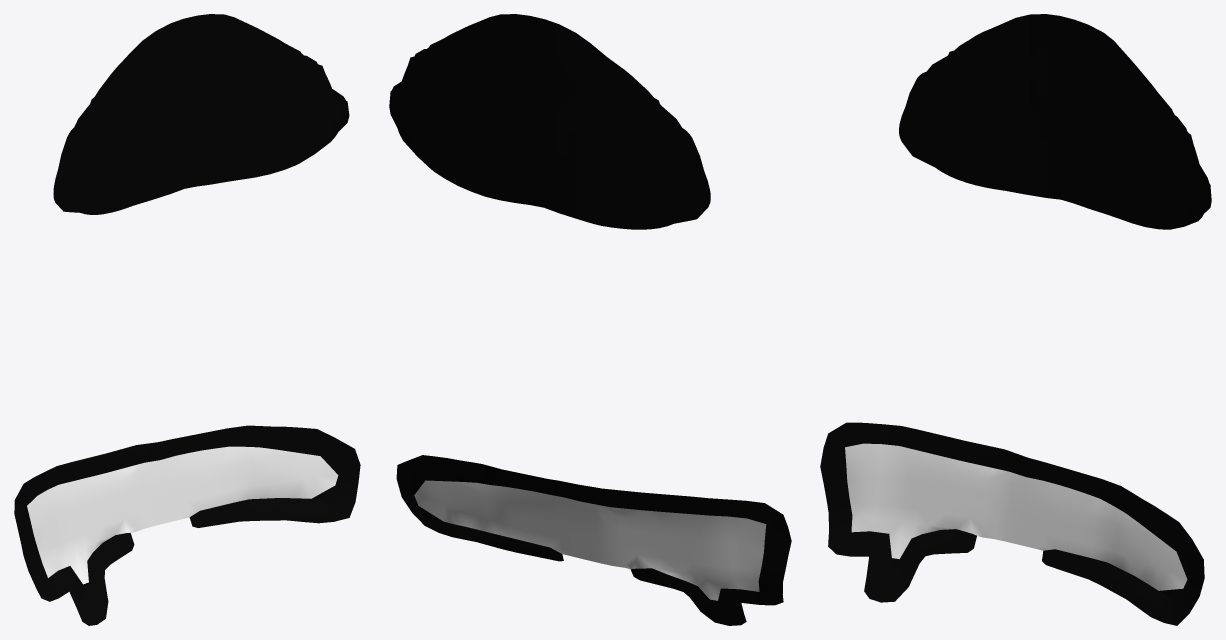
File: 18-Sleepy-Tired-Face-mouth.glb
3 views of the same model, side by side, from view 1: azimuth 30°, elevation 25°; view 2: azimuth 150°, elevation 25°; view 3: azimuth 330°, elevation 25° (orthographic). The views are drawn at different scales.
Parts seen in each view (by area): view 1: 18-Sleepy-Tired-Face-mouth; view 2: 18-Sleepy-Tired-Face-mouth; view 3: 18-Sleepy-Tired-Face-mouth.
Boxes of the visible parts, x1,y1,x2,y2 form: 18-Sleepy-Tired-Face-mouth: [14, 14, 360, 625]; 18-Sleepy-Tired-Face-mouth: [389, 14, 791, 625]; 18-Sleepy-Tired-Face-mouth: [820, 14, 1211, 625].
Size of the model in its own units: 0.3988 by 0.5948 by 0.0811.
Materials: 2 (2 with a texture image).
